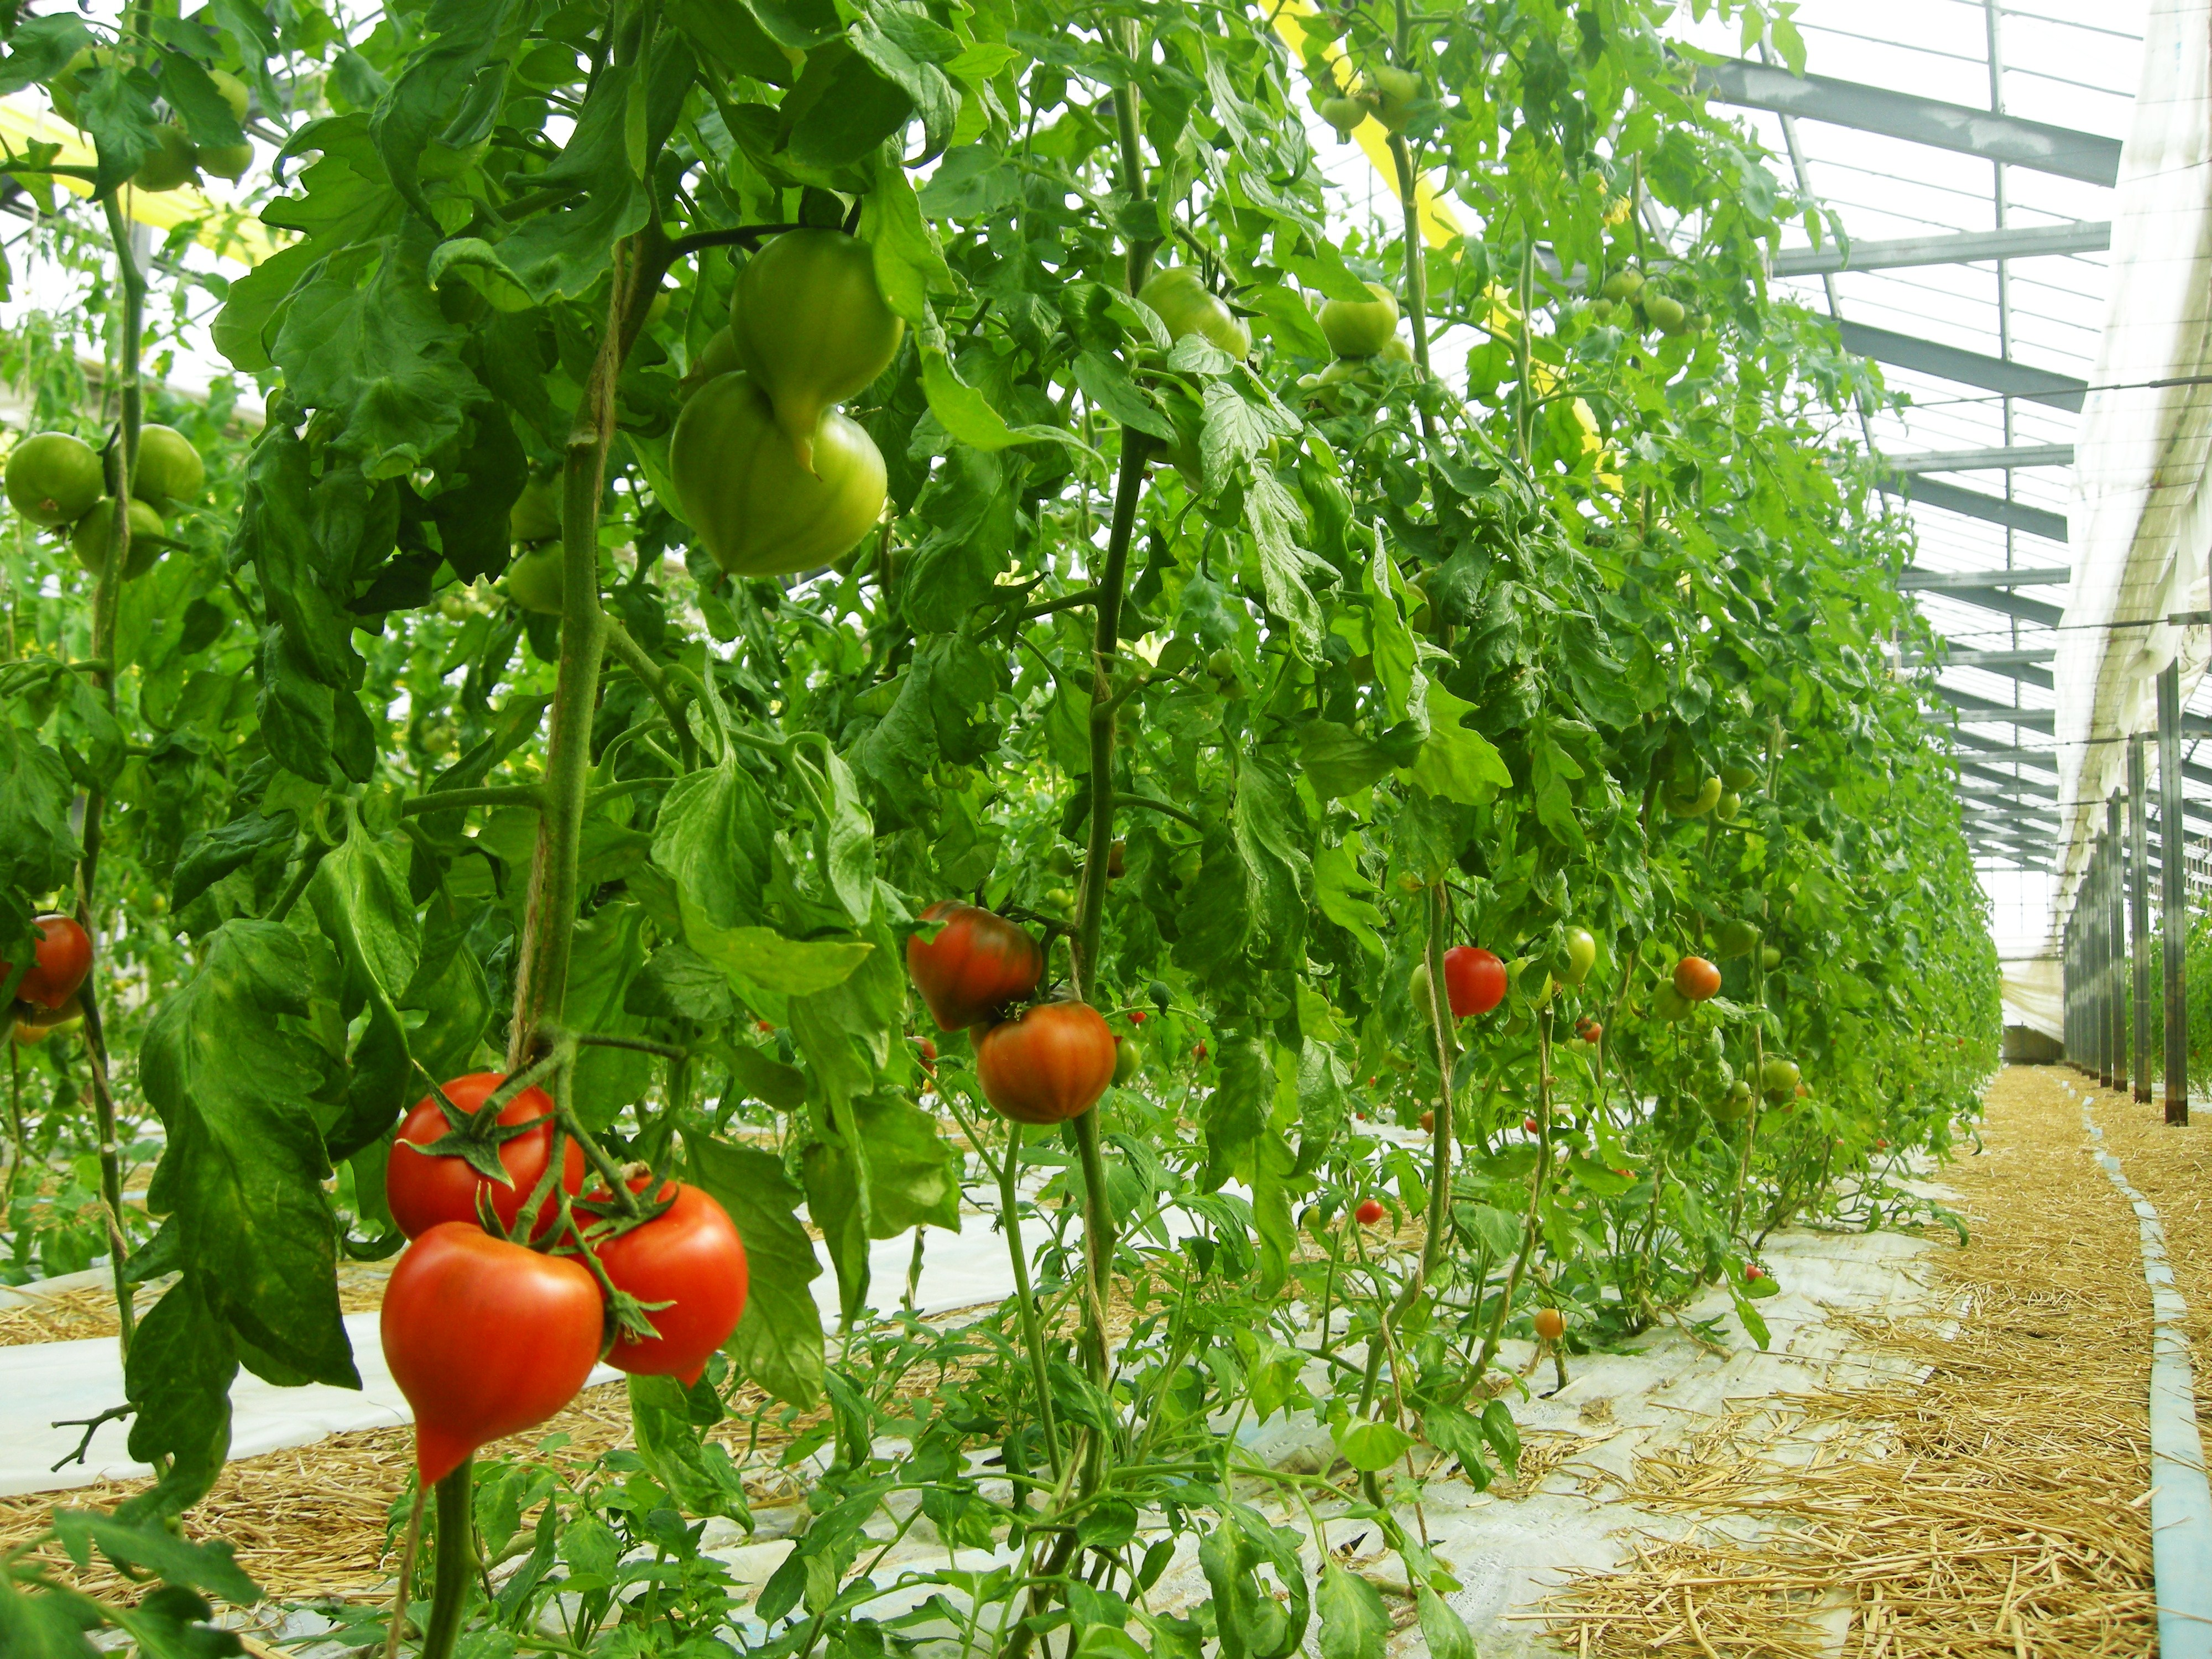tomato: (378, 1216, 634, 1431)
